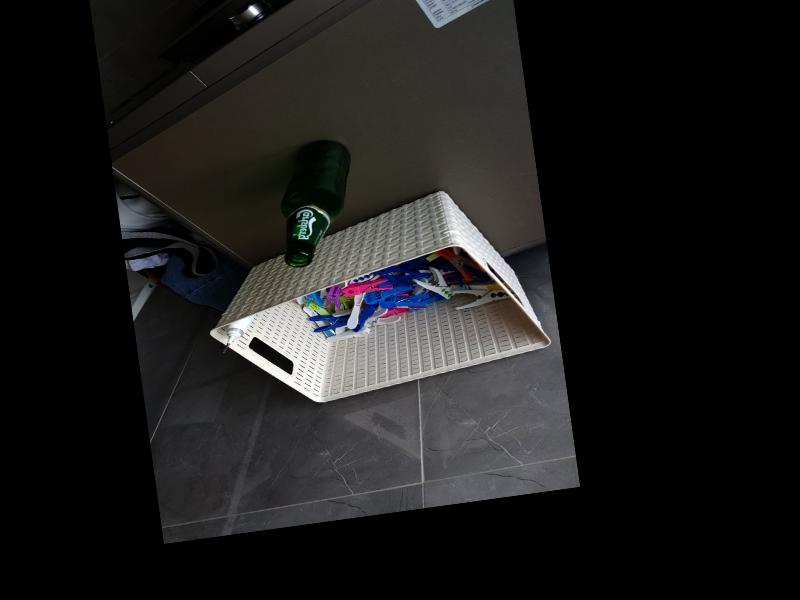Beer: (270, 136, 364, 269)
